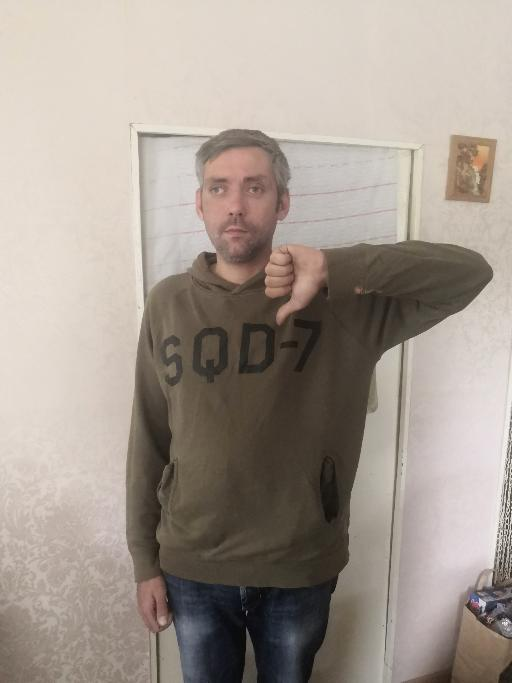dislike: (261, 241, 325, 326)
no_gesture: (133, 574, 174, 636)
